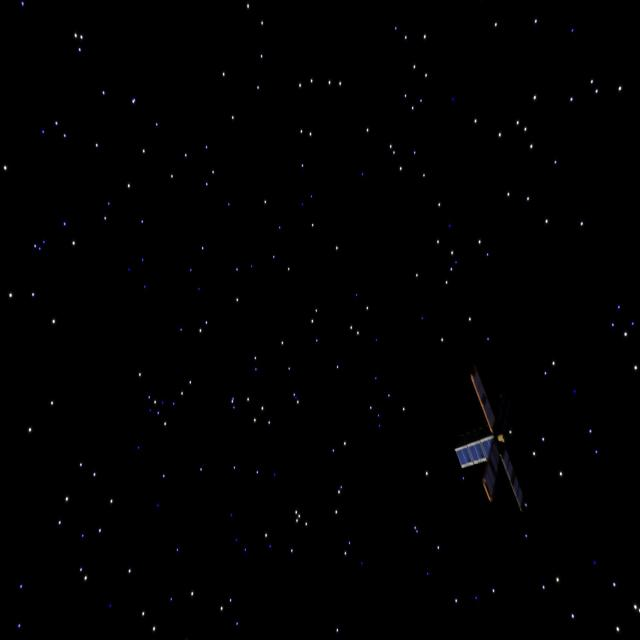satellite: (456, 364, 541, 512)
